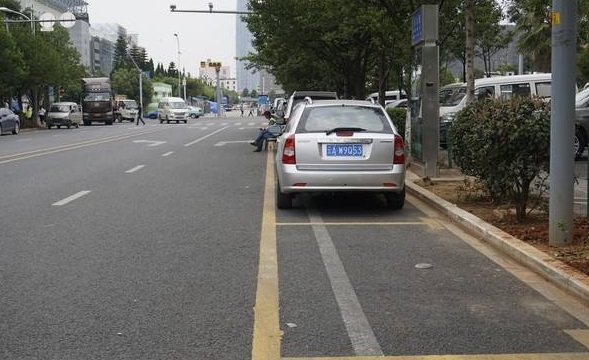slot_nocar: (230, 210, 589, 359)
